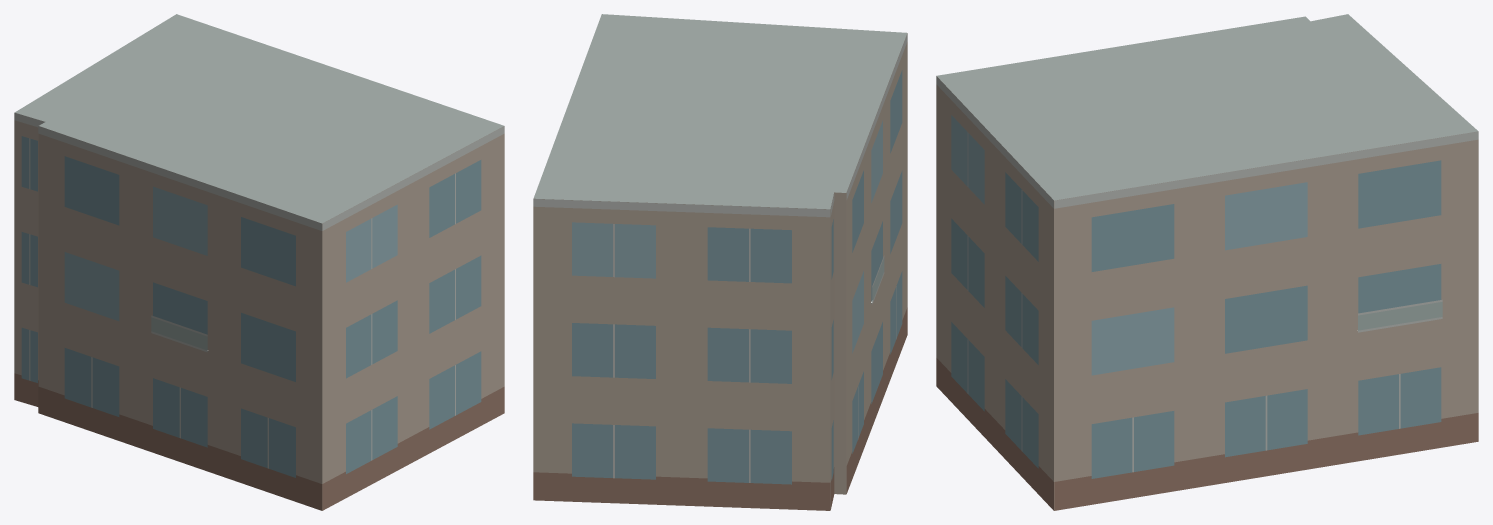
File: survey-upis-33045620.glb
3 views of the same model, side by side, from view 1: azimuth 30°, elevation 25°; view 2: azimuth 150°, elevation 25°; view 3: azimuth 270°, elevation 25° (orthographic). The views are drawn at different scales.
Parts seen in each view (by area): view 1: survey-upis-33045620.tmp; view 2: survey-upis-33045620.tmp; view 3: survey-upis-33045620.tmp.
Part boxes in pixels (box(x1,y1,x2,y2)): survey-upis-33045620.tmp: box(14, 14, 504, 510); survey-upis-33045620.tmp: box(533, 14, 907, 510); survey-upis-33045620.tmp: box(936, 14, 1478, 510).
Bounding box in the file's own units: 11.81 × 9.15 × 14.5.
